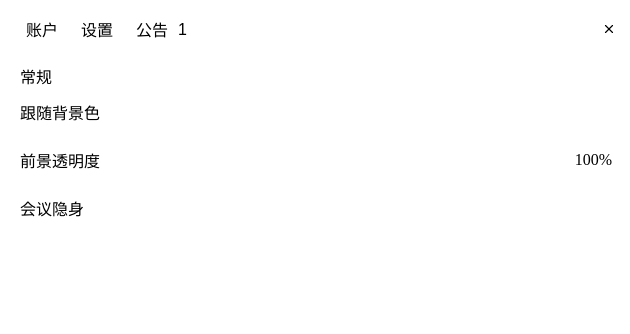
Test: SettingsPanel tabs › shows the server-issued plan name as a membership badge and drops the redundant plan row
The width and height of the screenshot is (630, 334).
Click the tab "账户" at {"x": 42, "y": 29}, box x1=16 y1=16 x2=68 y2=42
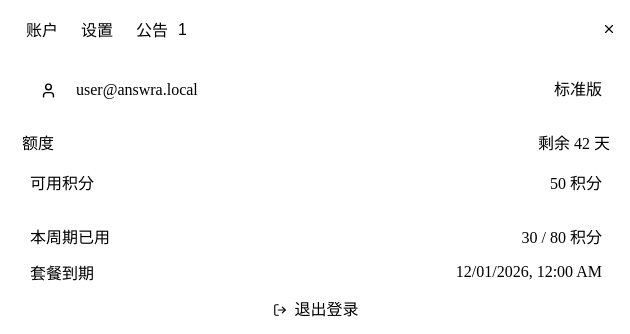
Expected: the text "标准版" is shown, x1=554 y1=82 x2=602 y2=98
Expected: the text "user@answra.local" is shown, x1=76 y1=81 x2=198 y2=99
